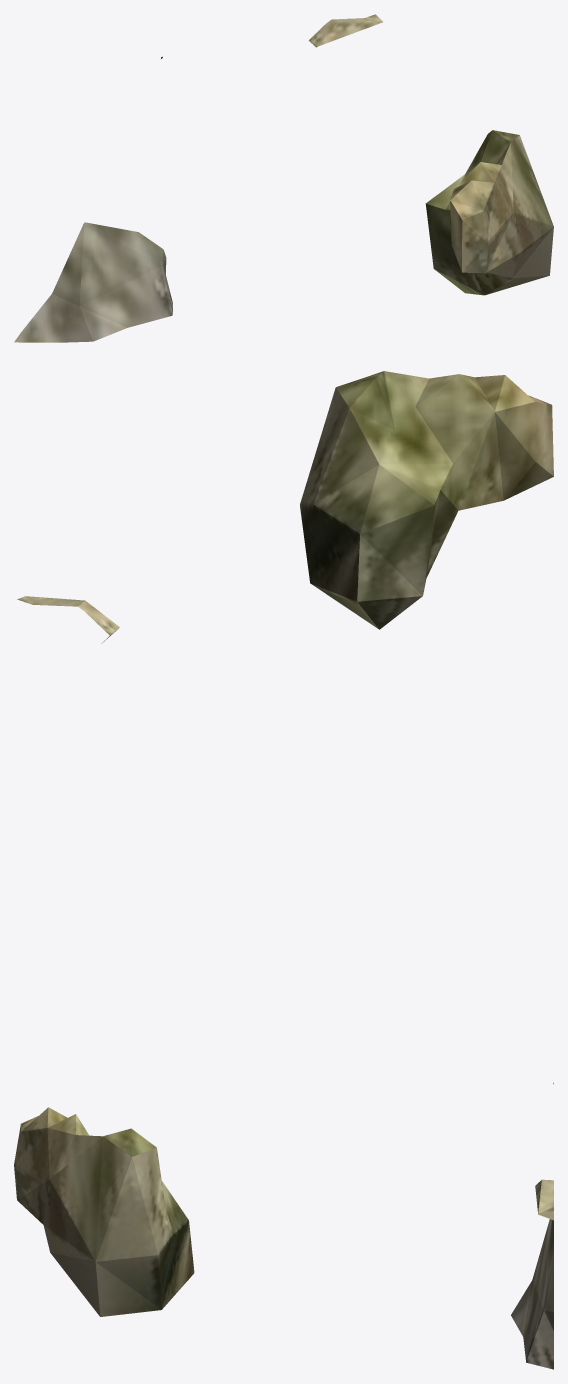
3 renders of one model, top to bottom at view 1: azimuth 30°, elevation 25°; view 2: azimuth 150°, elevation 25°; view 3: azimuth 270°, elevation 25°, orthographic. The views are drawn at different scales.
Bounding box in the file's own units: 1.31 × 0.959 × 1.5.
1 material, 1 textured.
